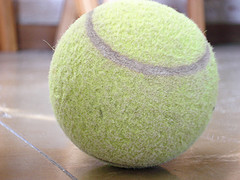tennis ball: (47, 1, 219, 169)
